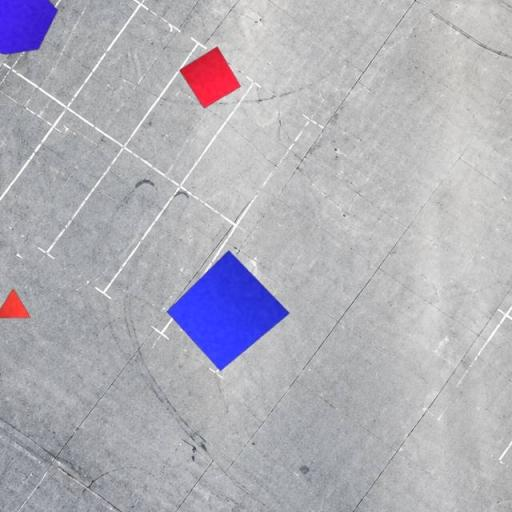BLUE_SQUARE: (166, 250, 290, 372)
RED_SQUARE: (178, 46, 242, 110)
